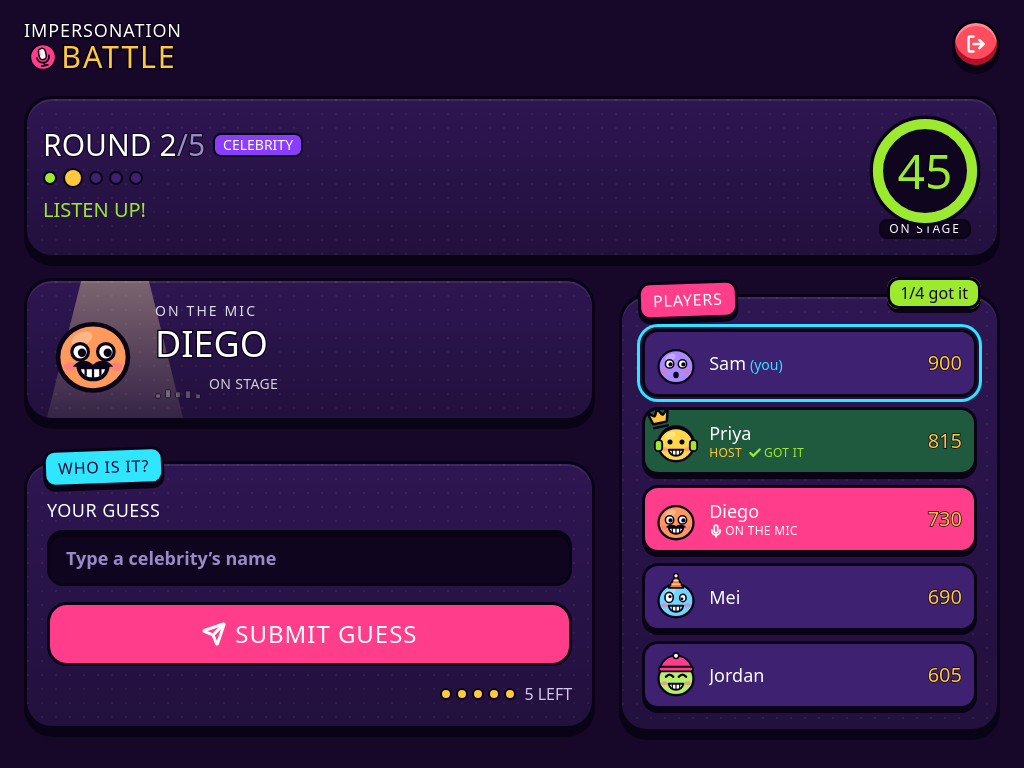
GameplayPage › blocks empty guesses locally
The image size is (1024, 768).
Click the button "Submit Guess": (310, 634) top-left (47, 602), bottom-right (572, 666)
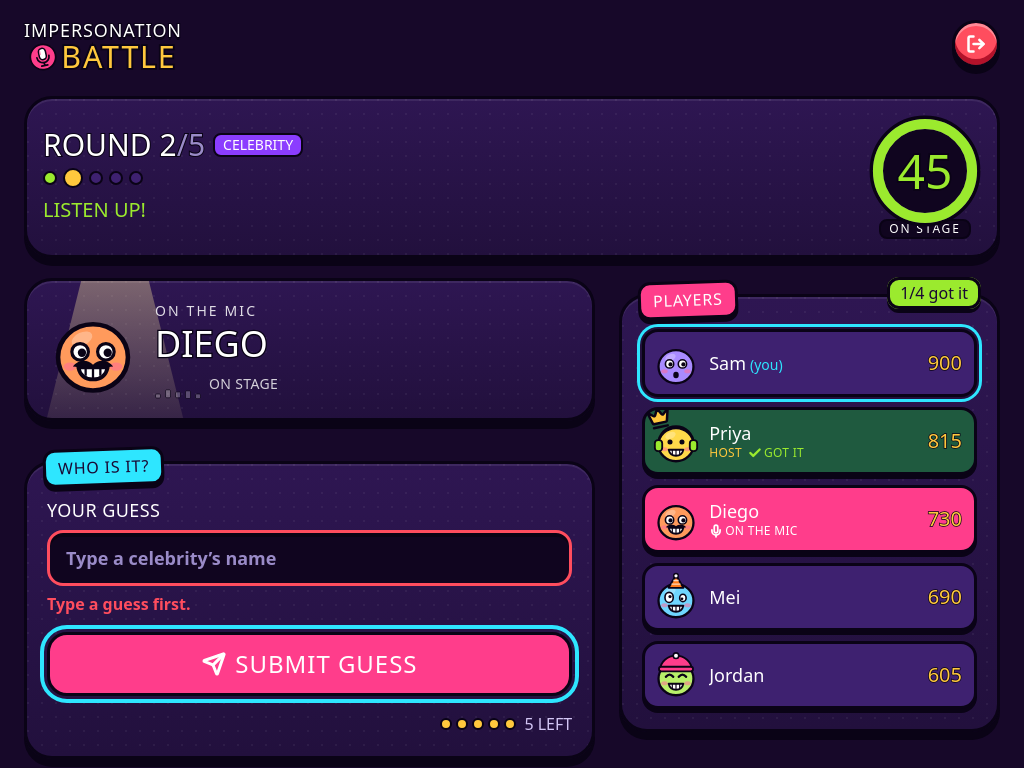
Check: the text "Type a guess first." is shown, box top-left (47, 593), bottom-right (191, 615)
